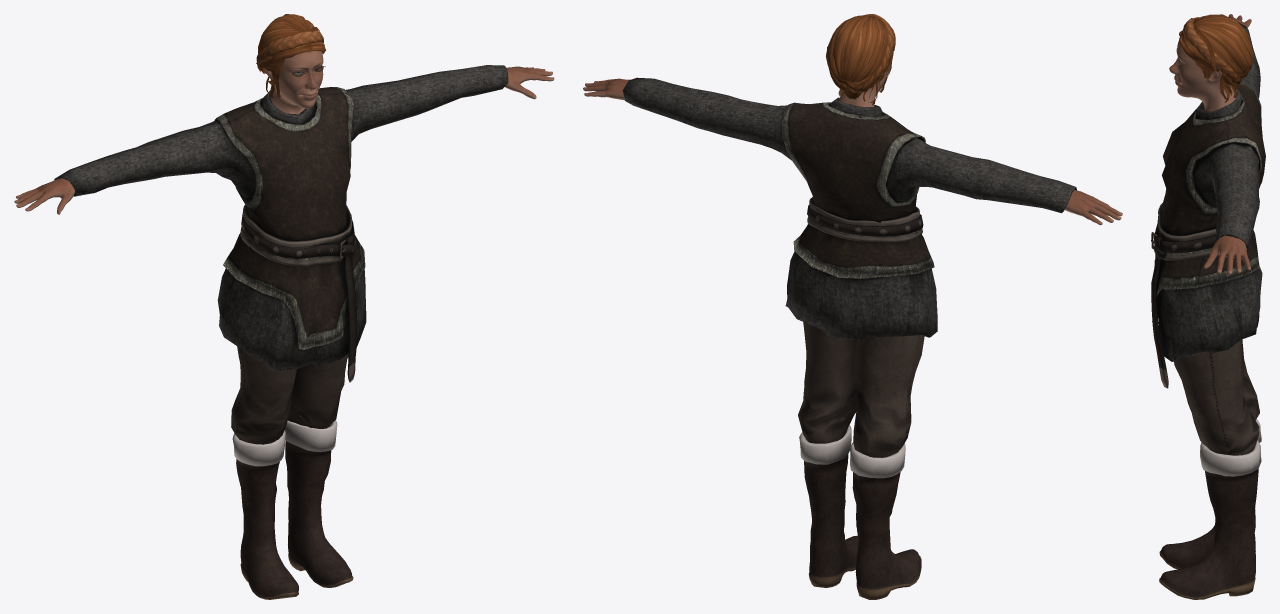
File: girl.obj
3 views of the same model, side by side, from view 1: azimuth 30°, elevation 25°; view 2: azimuth 150°, elevation 25°; view 3: azimuth 270°, elevation 25° (orthographic).
Visible parts, largest first — view 1: Tops, Shoes, Bottoms, Body, Hair; view 2: Tops, Shoes, Bottoms, Hair, Body; view 3: Tops, Shoes, Bottoms, Hair, Body.
Boxes of the visible parts, box(x1,y1,x2,y2) form: Tops: box(54, 65, 508, 382); Shoes: box(232, 420, 353, 599); Bottoms: box(231, 346, 348, 444); Body: box(14, 50, 554, 214); Hair: box(256, 14, 325, 97); Tops: box(622, 77, 1076, 339); Shoes: box(799, 425, 921, 599); Bottoms: box(798, 322, 924, 457); Hair: box(826, 14, 895, 105); Body: box(583, 66, 1122, 225); Tops: box(1151, 22, 1265, 388); Shoes: box(1159, 419, 1261, 599); Bottoms: box(1174, 339, 1259, 455); Hair: box(1179, 14, 1253, 102); Body: box(1169, 14, 1251, 274).
Bounding box in the file's own units: 179 × 179 × 33.29.
Materials: 5 (5 with a texture image).
